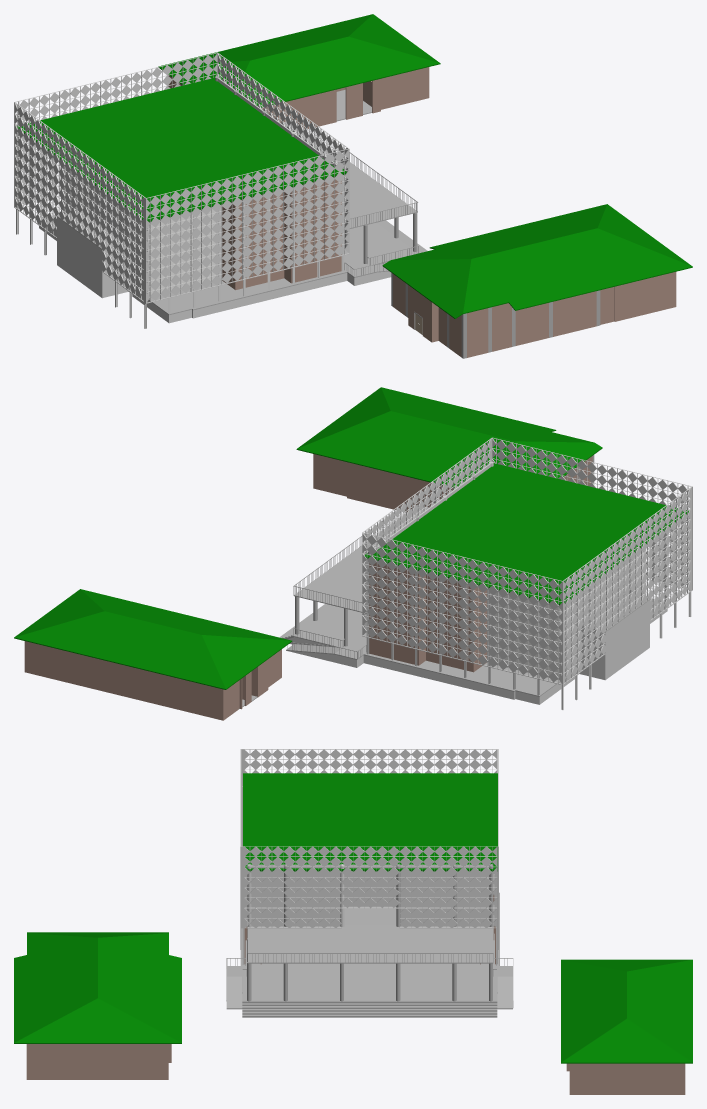
File: masjid_daing.gltf
The picture shows the model from 3 angles, top to bottom: view 1: azimuth 30°, elevation 25°; view 2: azimuth 150°, elevation 25°; view 3: azimuth 270°, elevation 25°; orthographic projection.
Visible parts, largest first — view 1: Basic Roof [1642835], Basic Roof [1665535], 3DGeom-2368, Basic Roof [1762744], 3DGeom-2372, 3DGeom-2364, 3DGeom-2369, 3DGeom-2374, 3DGeom-2373, 3DGeom-2370, Floor [1637268], Basic Wall [1635009] (+22 smaller); view 2: Basic Roof [1642835], 3DGeom-2364, Basic Roof [1665535], Basic Roof [1762744], 3DGeom-2372, Basic Wall [1594307], 3DGeom-2368, 3DGeom-2374, 3DGeom-2365, 3DGeom-2373, Floor [1637268], Basic Wall [1594315] (+15 smaller); view 3: Basic Roof [1642835], Basic Roof [1665535], 3DGeom-2377, Basic Roof [1762744], Floor [1637268], Floor [1639251], SubPart 1, 3DGeom-2372, Basic Wall [1594306], Basic Wall [1658382], 3DGeom-2378, Basic Wall [1594318] (+11 smaller).
Part boxes in pixels (x1,y1,x2,y2): Basic Roof [1642835]: (16,78,346,222); Basic Roof [1665535]: (382,204,692,318); 3DGeom-2368: (145,148,349,303); Basic Roof [1762744]: (158,14,440,107); 3DGeom-2372: (14,103,145,302); 3DGeom-2364: (14,52,217,207); 3DGeom-2369: (147,198,349,302); 3DGeom-2374: (15,103,137,296); 3DGeom-2373: (15,102,145,292); 3DGeom-2370: (146,149,349,250); Floor [1637268]: (284,120,417,230); Basic Wall [1635009]: (291,177,341,283); Basic Roof [1642835]: (364,463,688,605); 3DGeom-2364: (362,532,563,685); Basic Roof [1665535]: (296,387,602,487); Basic Roof [1762744]: (14,589,292,689); 3DGeom-2372: (563,487,692,684); Basic Wall [1594307]: (25,641,223,720); 3DGeom-2368: (492,437,692,590); 3DGeom-2374: (564,497,684,628); 3DGeom-2365: (362,581,561,684); 3DGeom-2373: (563,486,691,683); Floor [1637268]: (293,505,425,613); Basic Wall [1594315]: (348,462,431,512); Basic Roof [1642835]: (243,773,497,871); Basic Roof [1665535]: (14,932,181,1043); 3DGeom-2377: (241,846,497,928); Basic Roof [1762744]: (561,959,692,1063); Floor [1637268]: (247,925,493,963); Floor [1639251]: (242,941,497,1000); SubPart 1: (242,1000,497,1017); 3DGeom-2372: (241,749,497,846); Basic Wall [1594306]: (571,1063,685,1094); Basic Wall [1658382]: (26,1044,113,1079); 3DGeom-2378: (267,857,497,912); Basic Wall [1594318]: (113,1044,167,1079).
Size of the model in its own units: 55.44 by 15.32 by 72.54.
